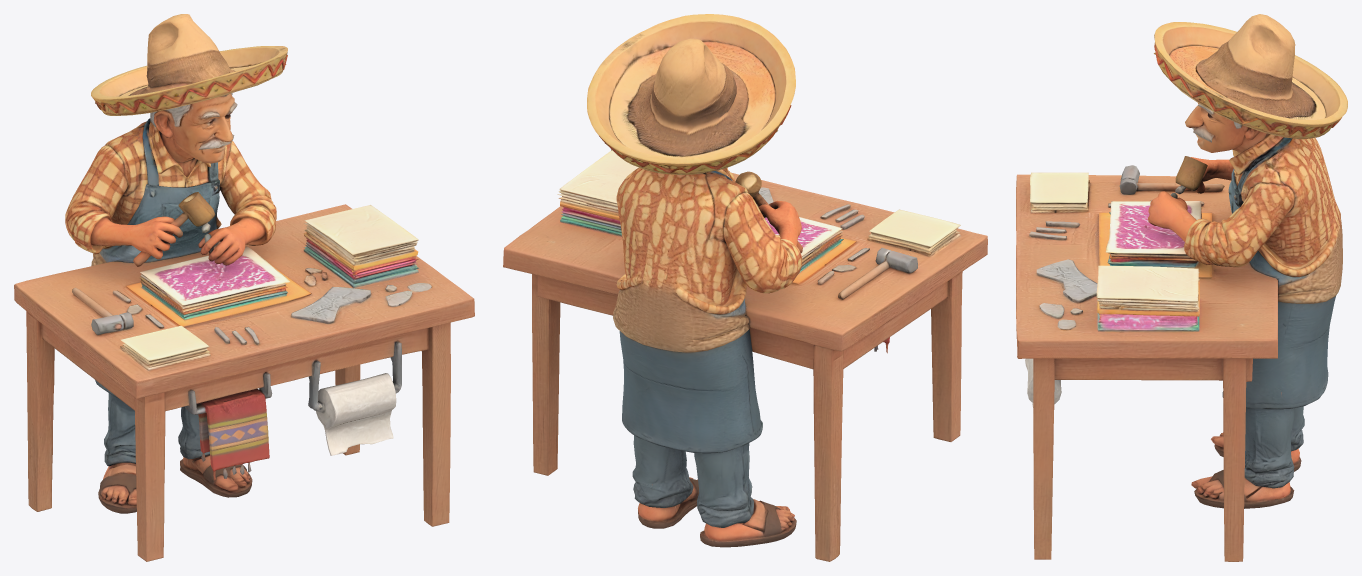
The model's file is base_basic_shaded.glb.
3 renders of one model, left to right at view 1: azimuth 30°, elevation 25°; view 2: azimuth 150°, elevation 25°; view 3: azimuth 270°, elevation 25°, orthographic. The views are drawn at different scales.
Visible parts, largest first — view 1: root.0, root.3, root.4, root.2, root.1; view 2: root.0, root.4, root.3, root.2; view 3: root.0, root.4, root.3, root.1, root.2.
Boxes of the visible parts, box(x1,y1,x2,y2) form: root.0: box(14, 204, 474, 561); root.3: box(91, 14, 287, 195); root.4: box(91, 50, 287, 513); root.2: box(65, 145, 215, 266); root.1: box(198, 141, 276, 265); root.0: box(503, 150, 987, 561); root.4: box(609, 34, 796, 547); root.3: box(587, 14, 795, 242); root.2: box(723, 171, 802, 293); root.0: box(1016, 165, 1277, 561); root.4: box(1169, 46, 1342, 508); root.3: box(1154, 14, 1347, 205); root.1: box(1148, 183, 1294, 267); root.2: box(1175, 156, 1233, 194).
Size of the model in its own units: 1.45 by 1.89 by 1.22.
Materials: 5 (5 with a texture image).
